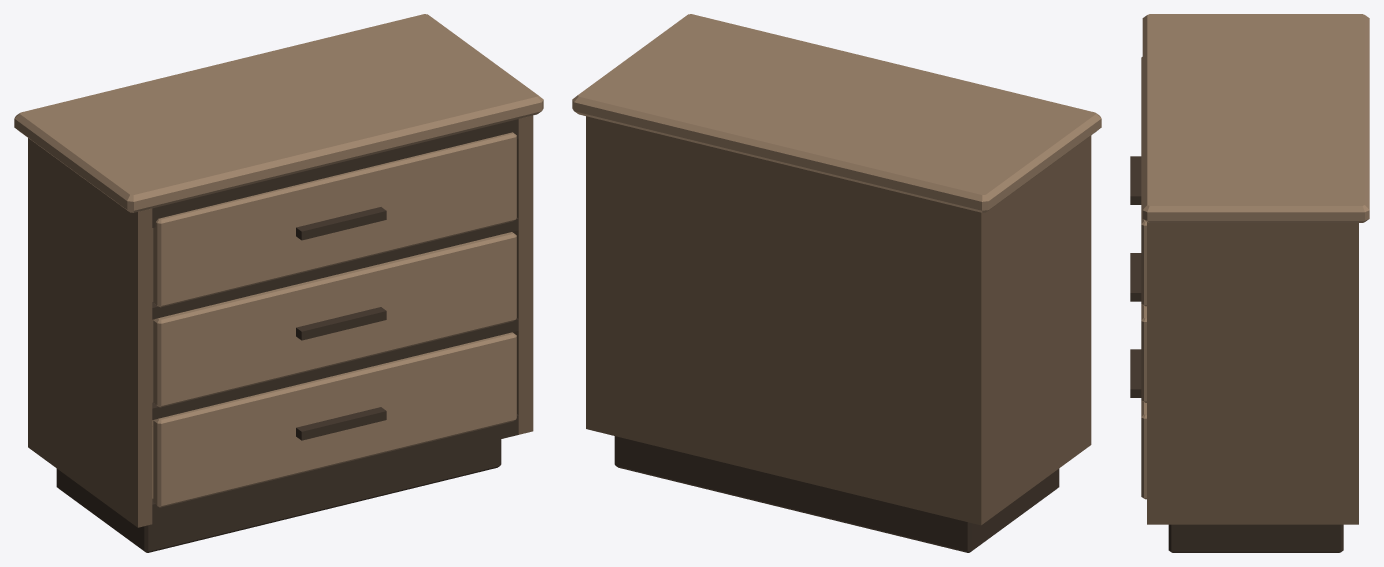
Rendered from Motel_Dresser.fbx.
3 views of the same model, side by side, from view 1: azimuth 30°, elevation 25°; view 2: azimuth 150°, elevation 25°; view 3: azimuth 270°, elevation 25° (orthographic). The views are drawn at different scales.
Visible parts, largest first — view 1: Motel_Dresser; view 2: Motel_Dresser; view 3: Motel_Dresser.
Boxes of the visible parts, left/top/right/bottom form: Motel_Dresser: left=14, top=14, right=543, bottom=552; Motel_Dresser: left=572, top=14, right=1101, bottom=552; Motel_Dresser: left=1130, top=14, right=1369, bottom=552.
Bounding box in the file's own units: 0.98 × 0.84 × 0.506.
